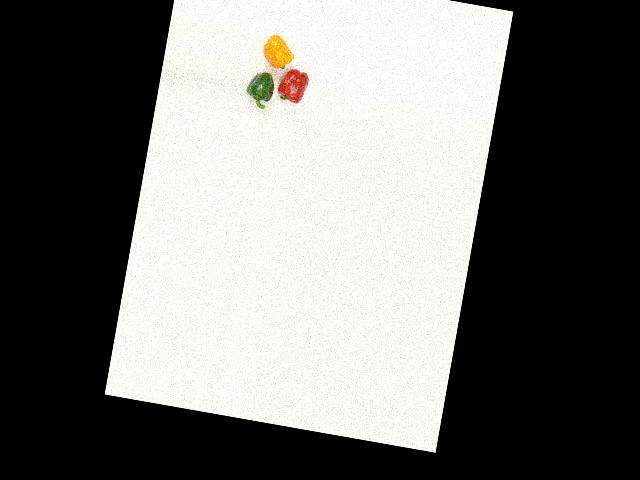bell_pepper: (243, 69, 278, 111)
